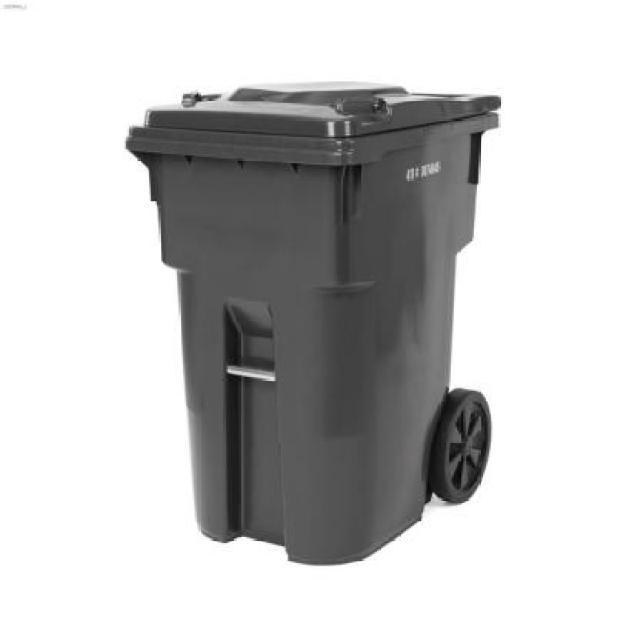garbage container: (117, 69, 523, 574)
